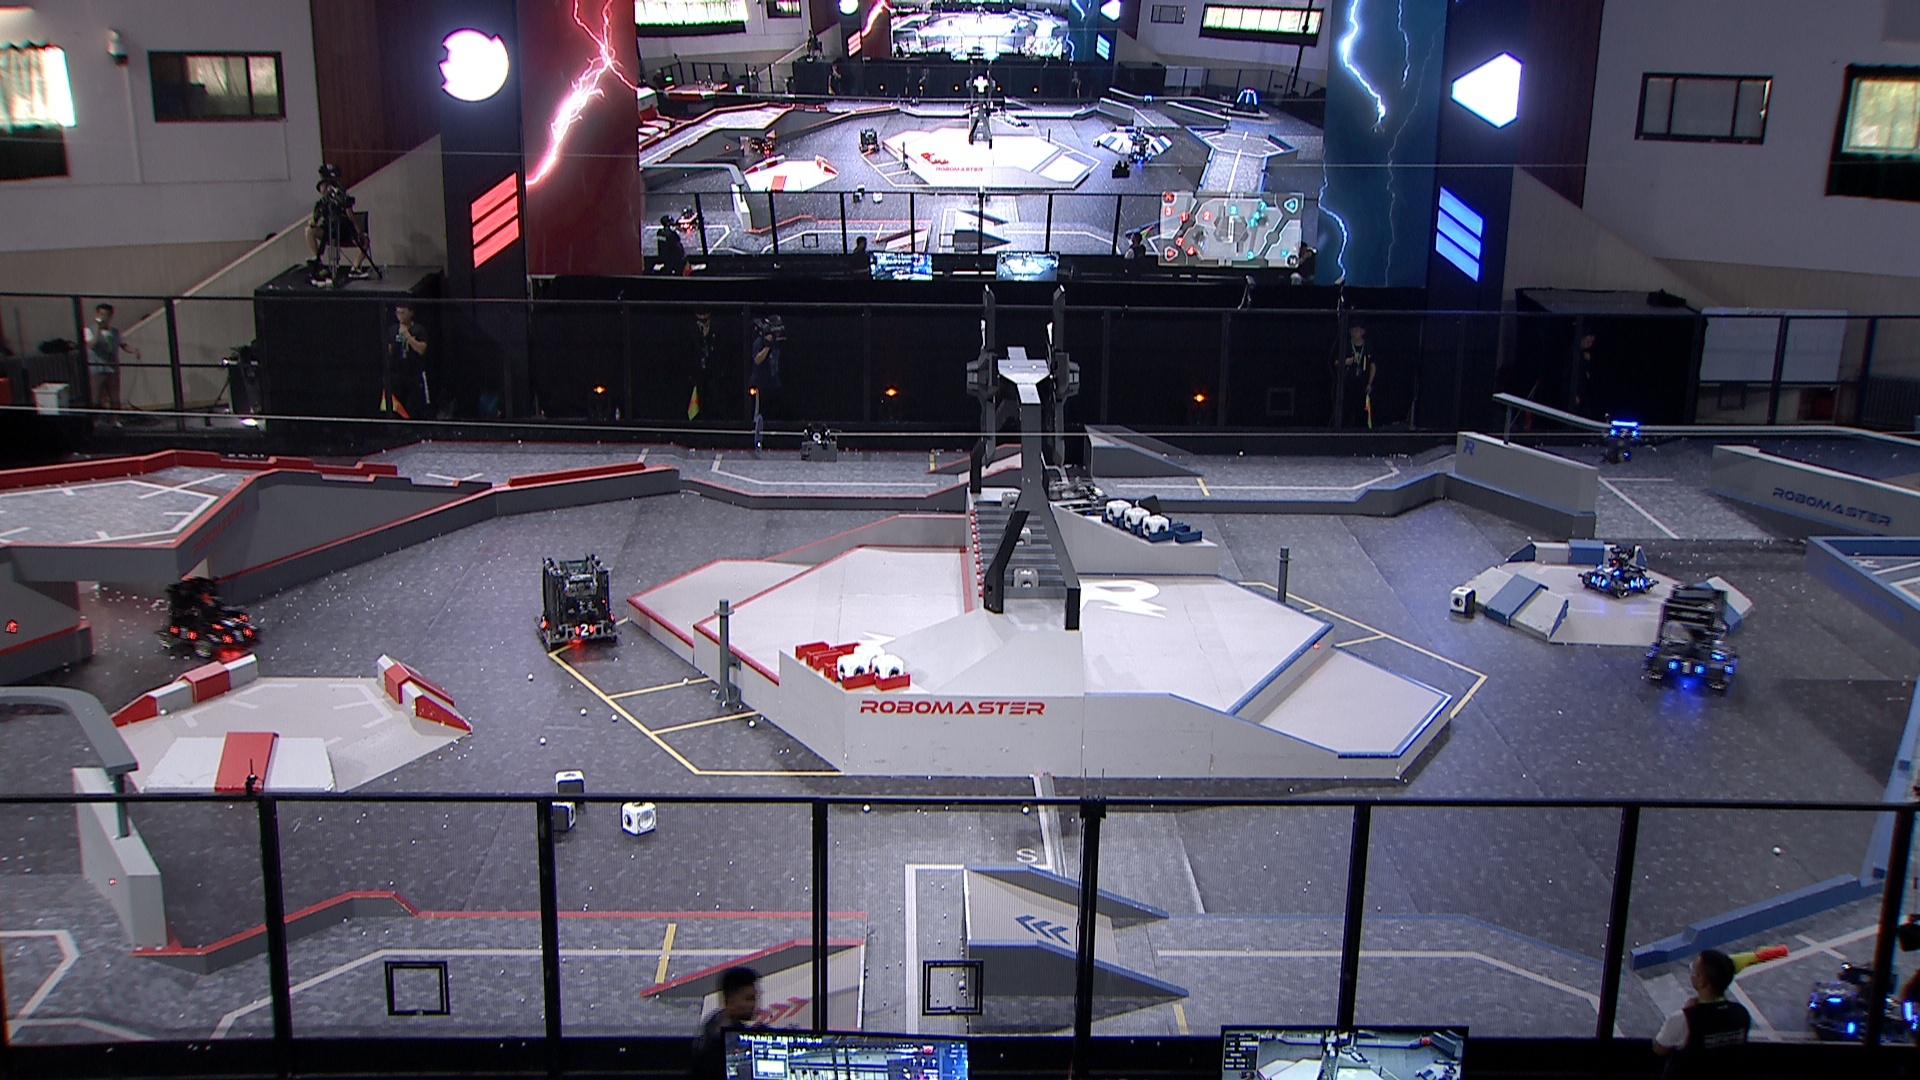armor: (1822, 978, 1846, 1006), (1669, 659, 1702, 679), (225, 624, 256, 644), (171, 622, 195, 641), (1609, 425, 1634, 438), (216, 616, 240, 629), (1726, 655, 1741, 676), (1598, 562, 1618, 576), (574, 622, 593, 636), (1588, 574, 1607, 585), (535, 615, 549, 632), (1629, 575, 1643, 589), (1712, 646, 1726, 659)
car: (1640, 583, 1743, 692), (1807, 964, 1917, 1054), (153, 575, 262, 662), (531, 553, 624, 654), (1019, 475, 1112, 556), (1580, 541, 1655, 603)
ignore: (1232, 82, 1263, 115), (670, 206, 704, 233), (1122, 135, 1154, 164), (858, 127, 882, 157), (1135, 87, 1156, 109), (754, 136, 775, 157), (1441, 1063, 1458, 1077)
watcher: (1598, 407, 1643, 465)
